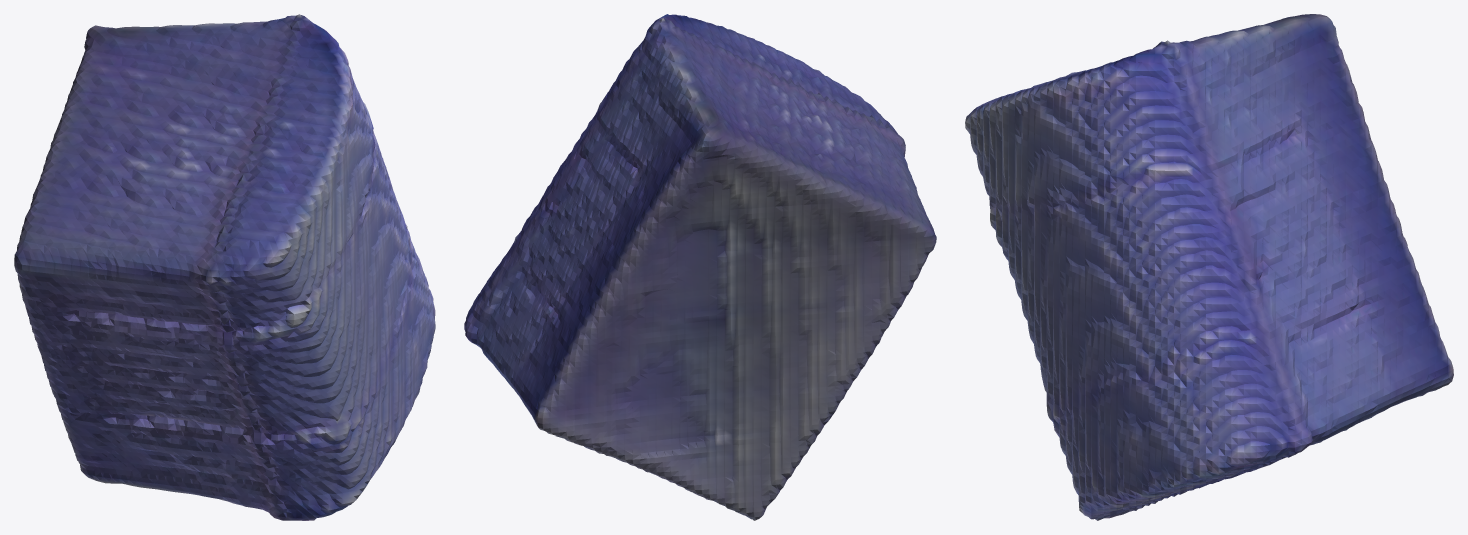
File: chest.glb
3 renders of one model, left to right at view 1: azimuth 30°, elevation 25°; view 2: azimuth 150°, elevation 25°; view 3: azimuth 270°, elevation 25°, orthographic. The views are drawn at different scales.
Parts seen in each view (by area): view 1: geometry_0; view 2: geometry_0; view 3: geometry_0.
Part boxes in pixels (box(x1,y1,x2,y2)): geometry_0: box(14, 14, 435, 520); geometry_0: box(464, 14, 936, 520); geometry_0: box(965, 14, 1453, 520).
Bounding box in the file's own units: 1.13 × 1.16 × 1.05.
